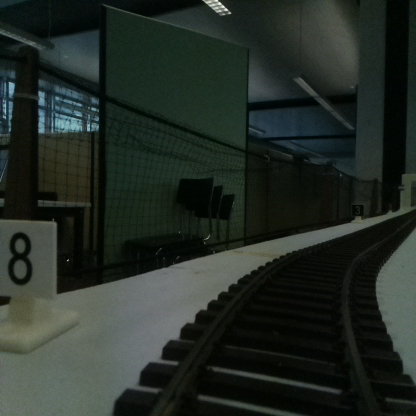black-stop-3: (352, 203, 364, 222)
white-stop-8: (0, 222, 56, 345)
